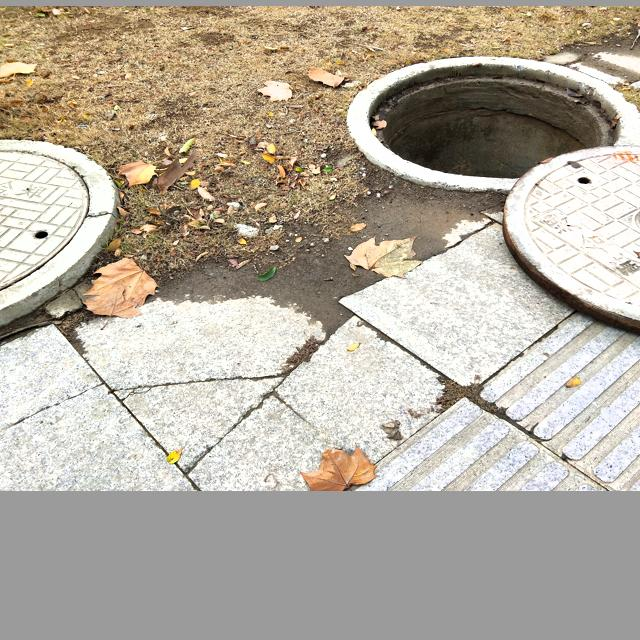good: (0, 138, 117, 342)
uncovered: (351, 54, 640, 344)
